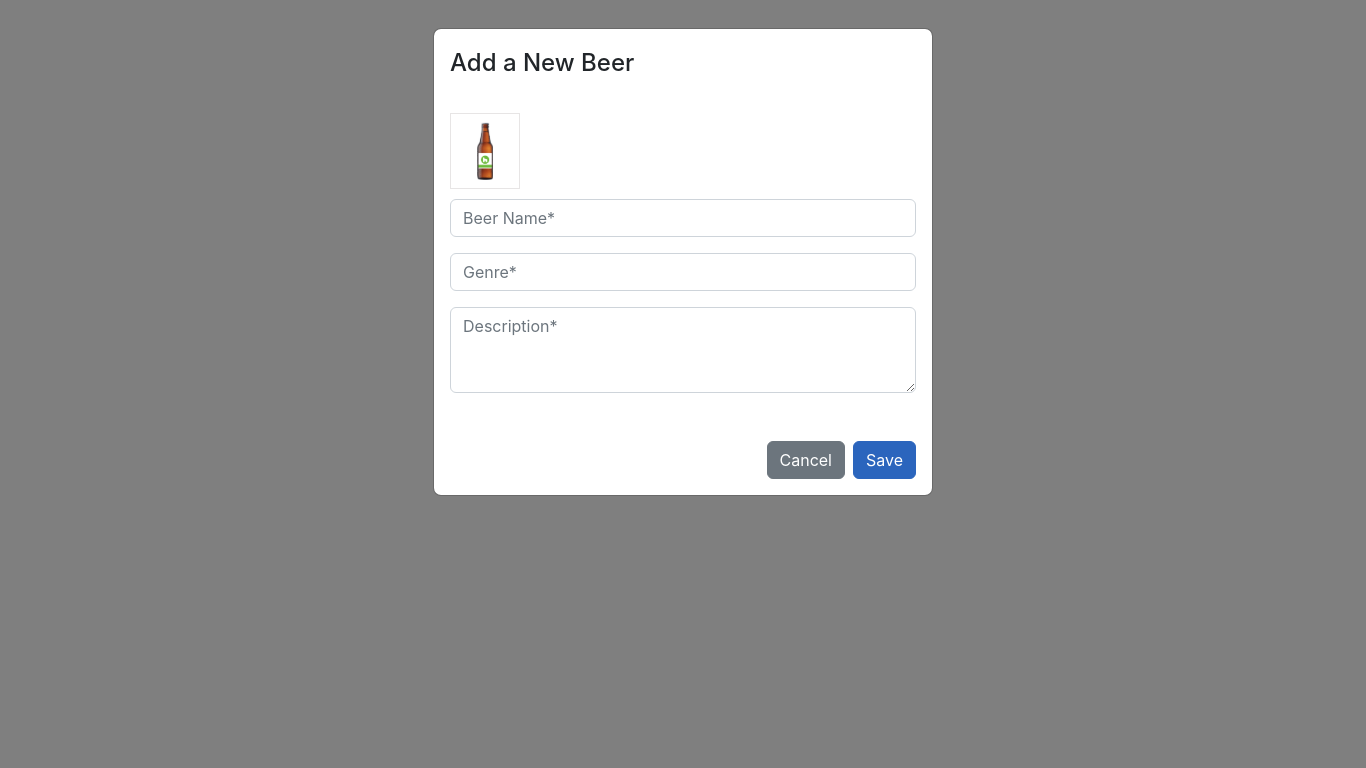
Scenario: AddBeerModal Component › handles form submission correctly
In the field with placeholder "Beer Name*": [683, 218] box left=450, top=199, right=916, bottom=237, type "Test Beer"
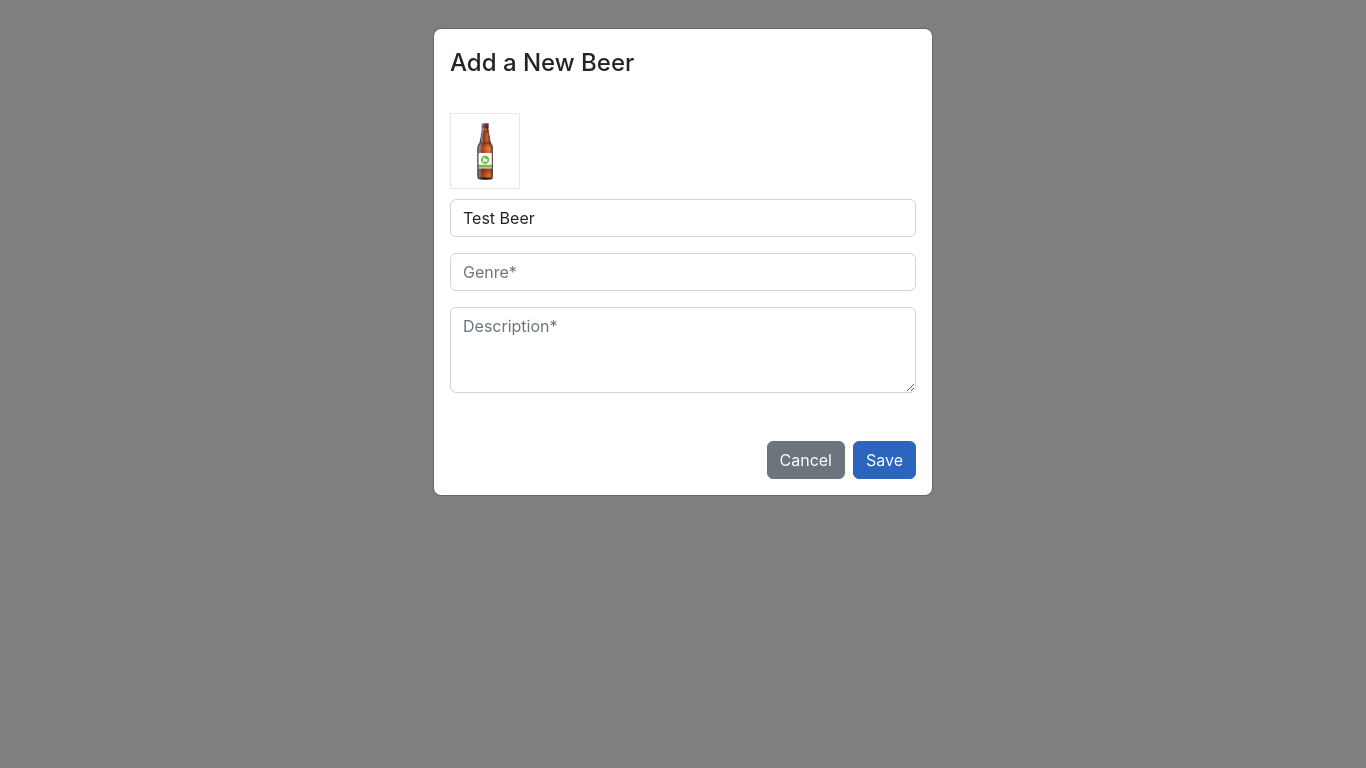
In the field with placeholder "Genre*": [683, 272] box left=450, top=253, right=916, bottom=291, type "Test Genre"
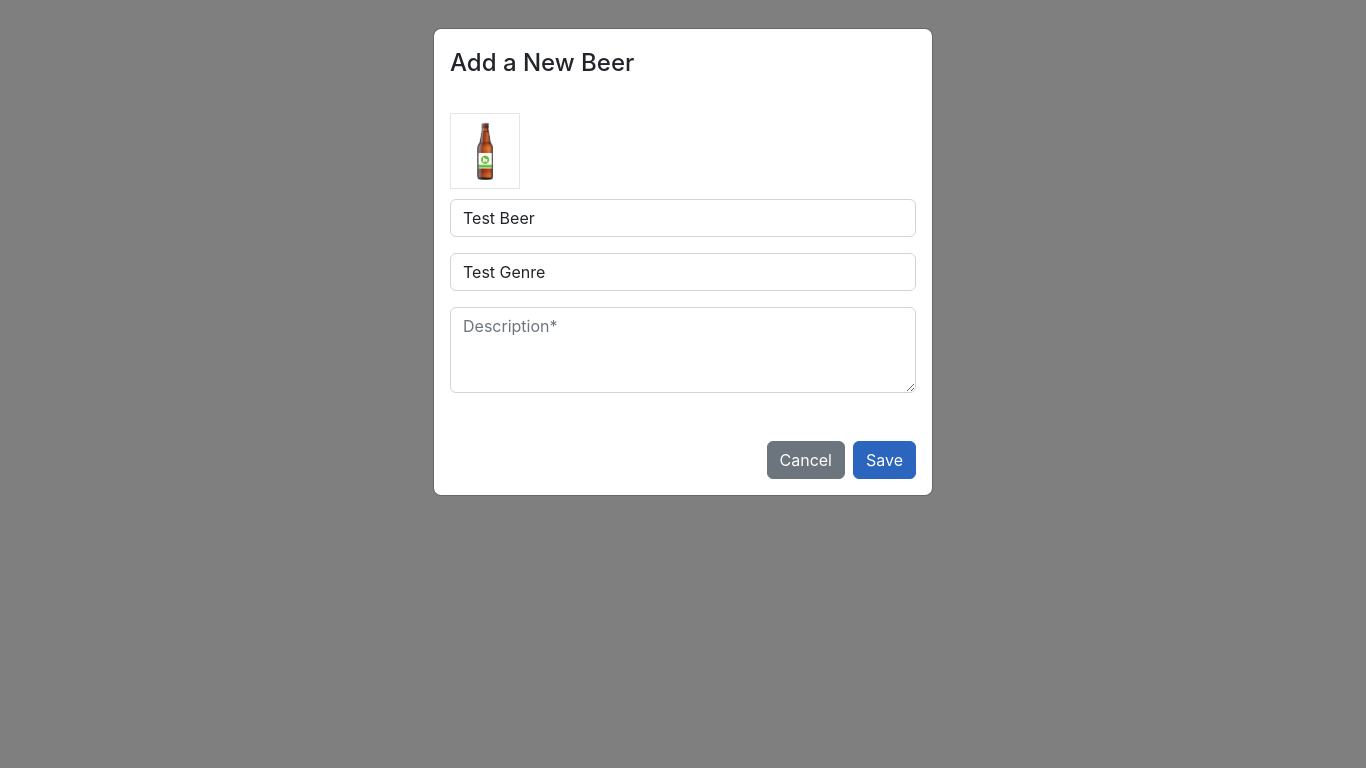
In the text box with placeholder "Description*": [683, 350] box left=450, top=307, right=916, bottom=393, type "Test Description"
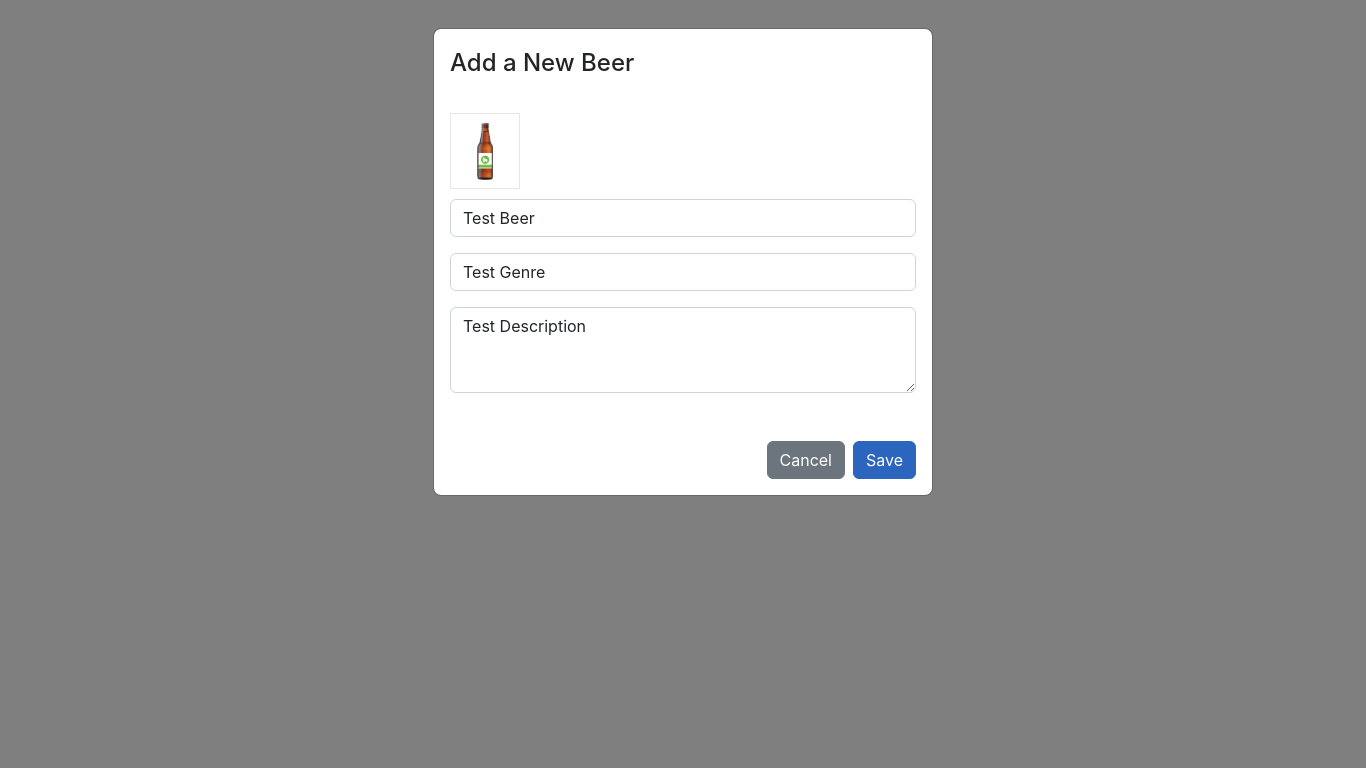
Click the button "Save": [884, 460] box left=853, top=441, right=916, bottom=479
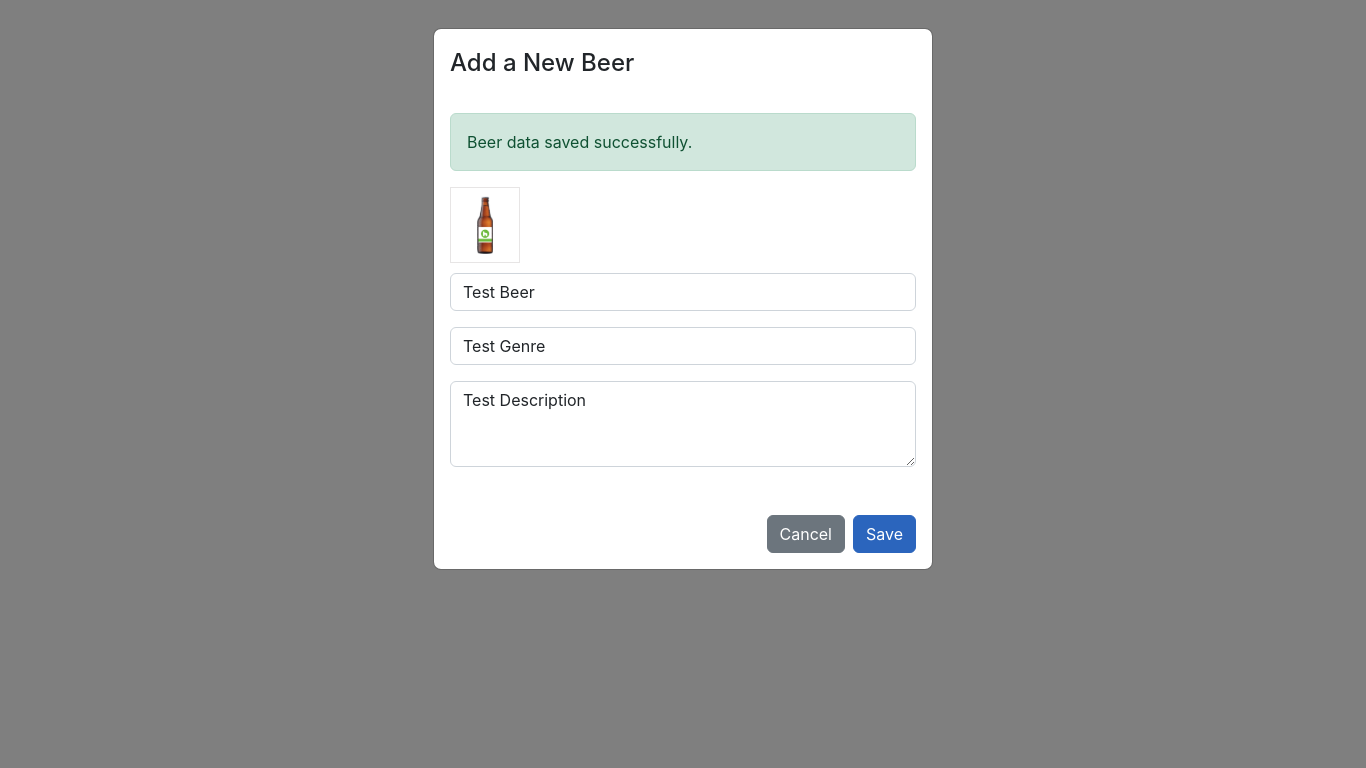
Result: the text "Beer data saved successfully." is shown at left=450, top=113, right=916, bottom=171
